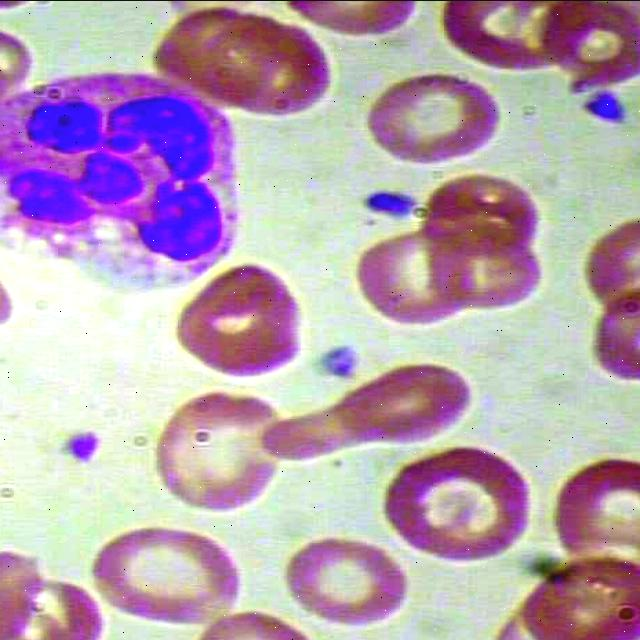Platelets: (56, 423, 108, 468), (584, 77, 634, 123), (312, 342, 364, 386), (354, 182, 420, 216)
RBC: (259, 358, 479, 468), (381, 436, 534, 566), (146, 387, 298, 517), (162, 255, 316, 380), (358, 56, 510, 172), (87, 515, 243, 628), (148, 4, 292, 116), (284, 532, 422, 628), (222, 13, 338, 122), (354, 232, 480, 327), (548, 449, 640, 578), (419, 172, 545, 266), (447, 231, 556, 317), (540, 0, 640, 93)
WBC: (0, 77, 250, 313)
